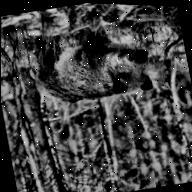boar: (17, 1, 166, 122)
